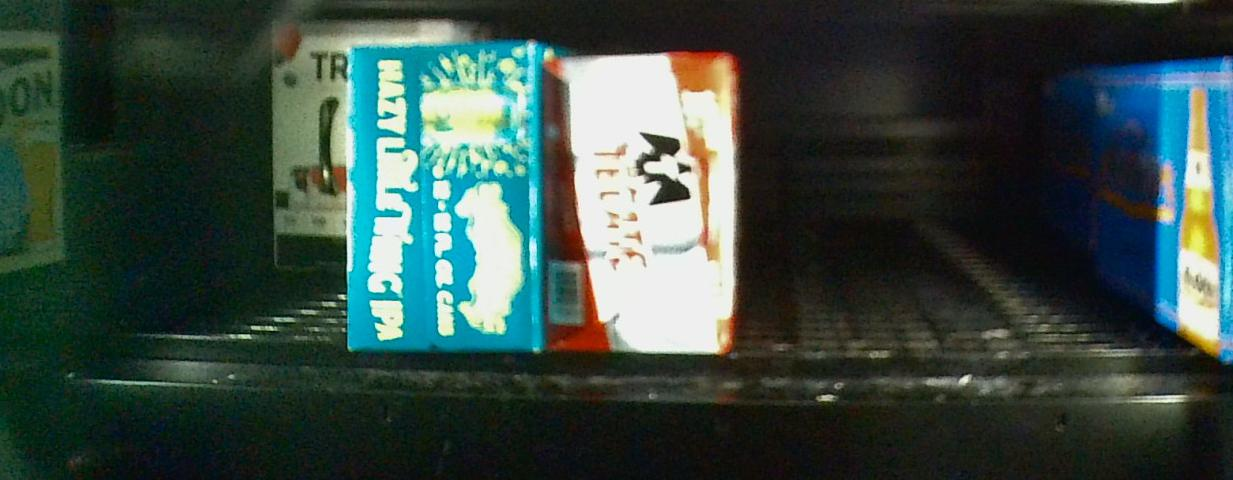bottle: (350, 42, 544, 353), (544, 48, 736, 362), (269, 18, 348, 272)
